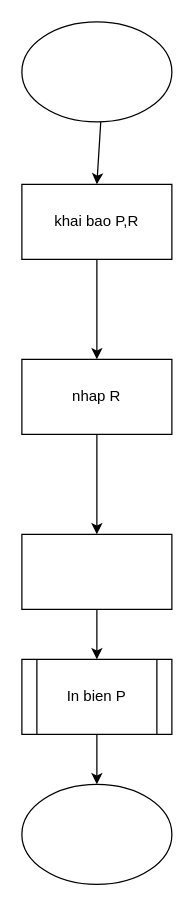
The diagram is 194 pixels wide and 906 high, and some of its shapes have lost their labels. The centre of each missing label's shape, as x and y in pixels:
P=3,14*R: point (96, 571)
start: point (96, 71)
